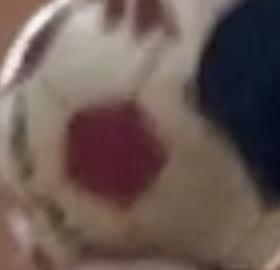Sports-Ball: (1, 3, 244, 256)
